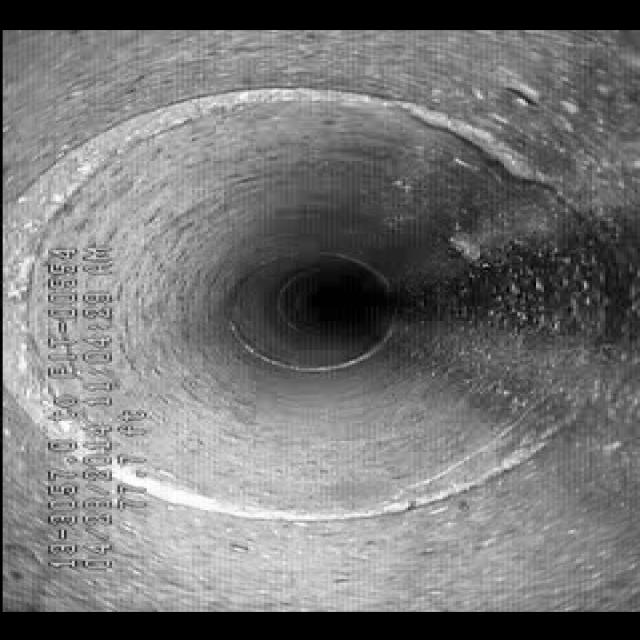Crack: (360, 418, 512, 512)
